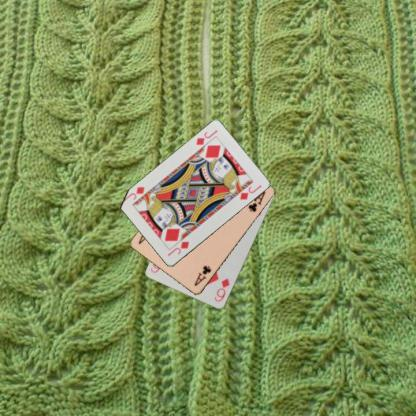6d: (212, 276, 231, 303)
Ac: (192, 263, 212, 288)
Jd: (165, 238, 190, 258), (193, 128, 219, 146)
